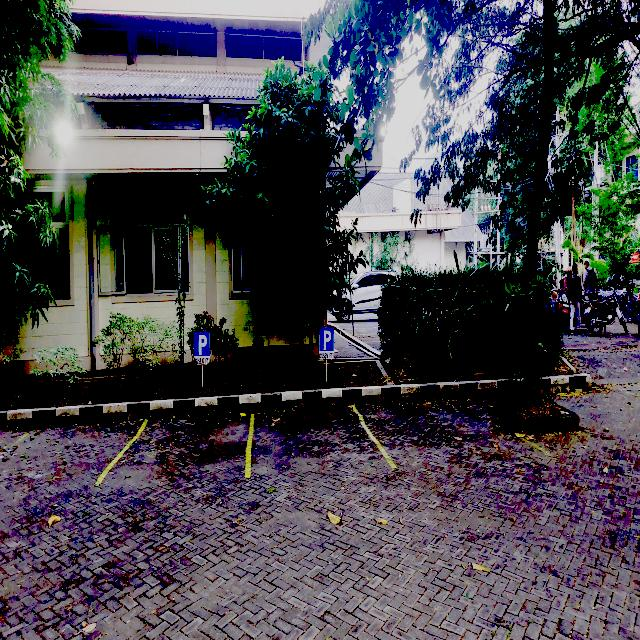empty: (349, 397, 548, 468), (94, 411, 254, 484), (246, 401, 395, 478), (0, 420, 148, 488)
